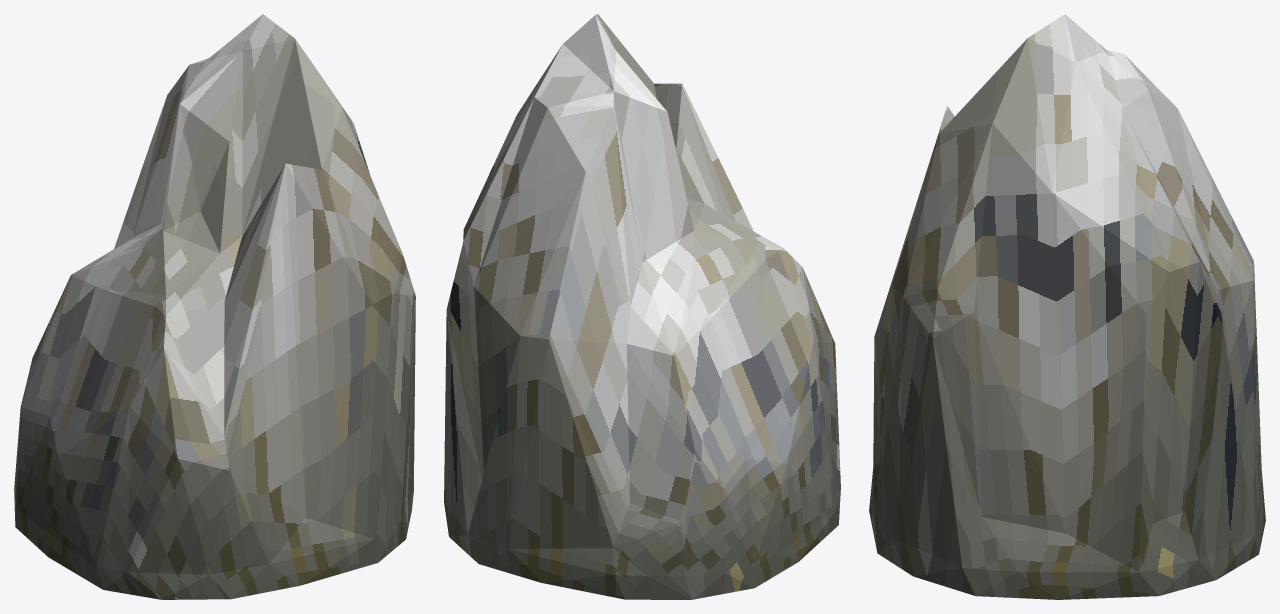
File: big_rock_snow.obj
3 renders of one model, left to right at view 1: azimuth 30°, elevation 25°; view 2: azimuth 150°, elevation 25°; view 3: azimuth 270°, elevation 25°, orthographic. The views are drawn at different scales.
Parts seen in each view (by area): view 1: Cube; view 2: Cube; view 3: Cube.
Part boxes in pixels (left/top/right/bottom): Cube: left=14, top=14, right=415, bottom=599; Cube: left=444, top=14, right=840, bottom=599; Cube: left=869, top=14, right=1265, bottom=599.
Size of the model in its own units: 0.962 by 1.41 by 0.9602.
1 material, 1 textured.
